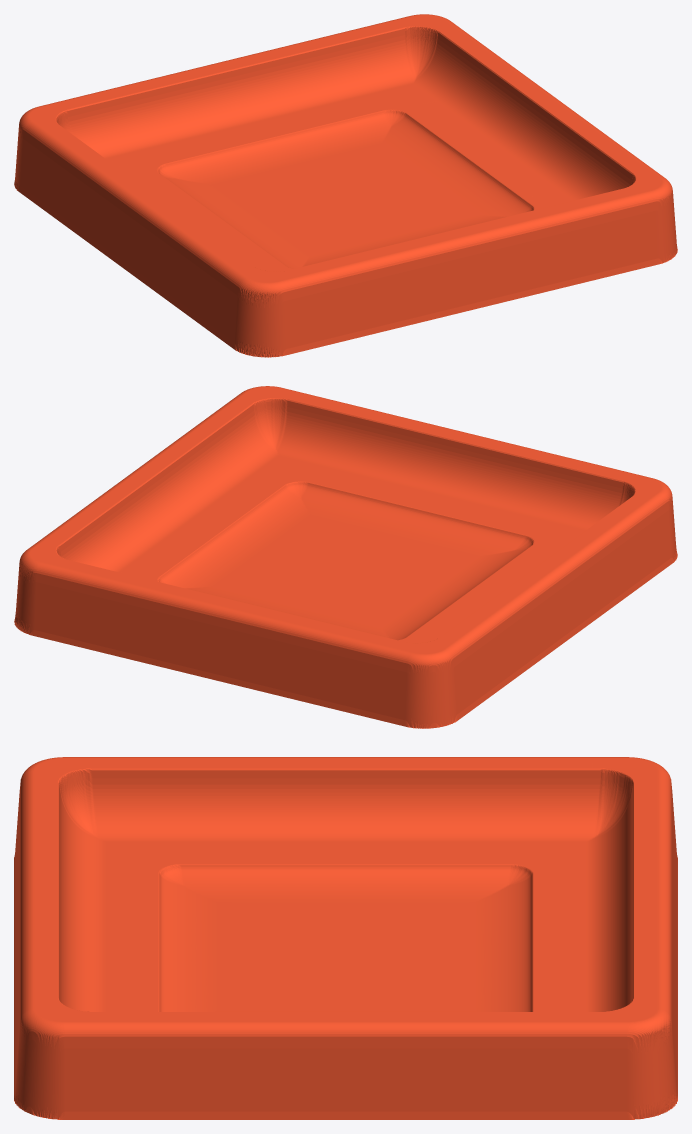
Rendered from mold.glb.
3 renders of one model, top to bottom at view 1: azimuth 30°, elevation 25°; view 2: azimuth 150°, elevation 25°; view 3: azimuth 270°, elevation 25°, orthographic. The views are drawn at different scales.
Parts seen in each view (by area): view 1: geometry_0; view 2: geometry_0; view 3: geometry_0.
Boxes of the visible parts, box(x1,y1,x2,y2) form: geometry_0: box(14, 14, 677, 357); geometry_0: box(14, 386, 677, 728); geometry_0: box(14, 757, 677, 1119).
Bounding box in the file's own units: 0.1178 × 0.0175 × 0.1178.
